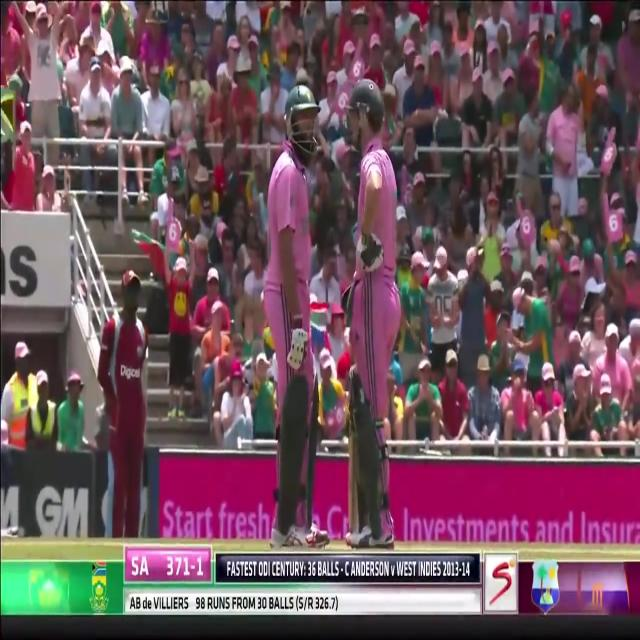Ball: (258, 82, 336, 549), (342, 81, 416, 548)
